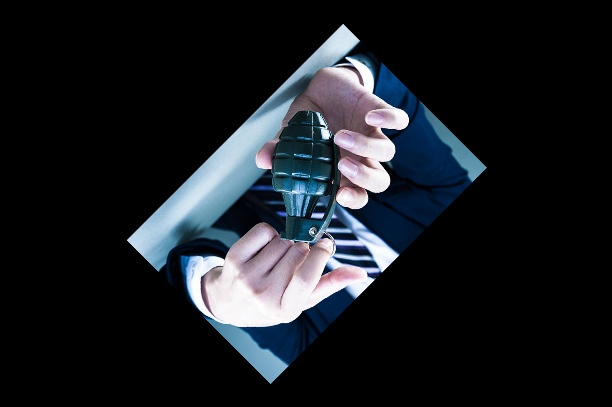e1: (261, 108, 341, 260)
